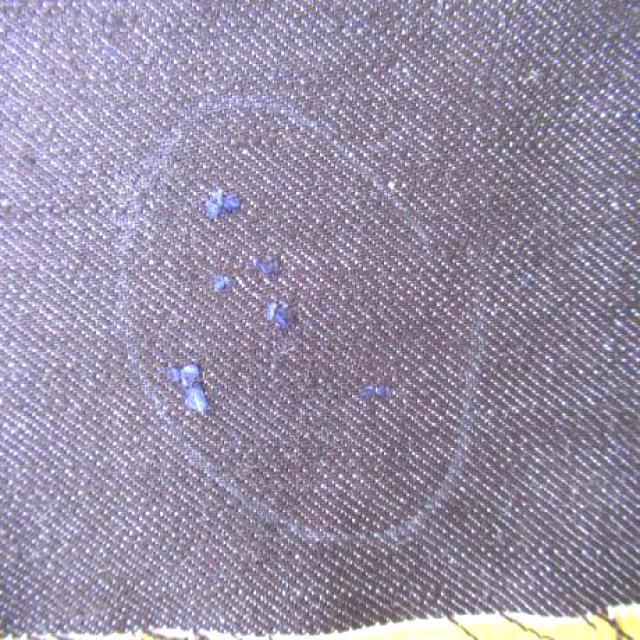Thread_other: (183, 257, 366, 349), (171, 164, 292, 248), (136, 348, 232, 430), (310, 367, 430, 432)
